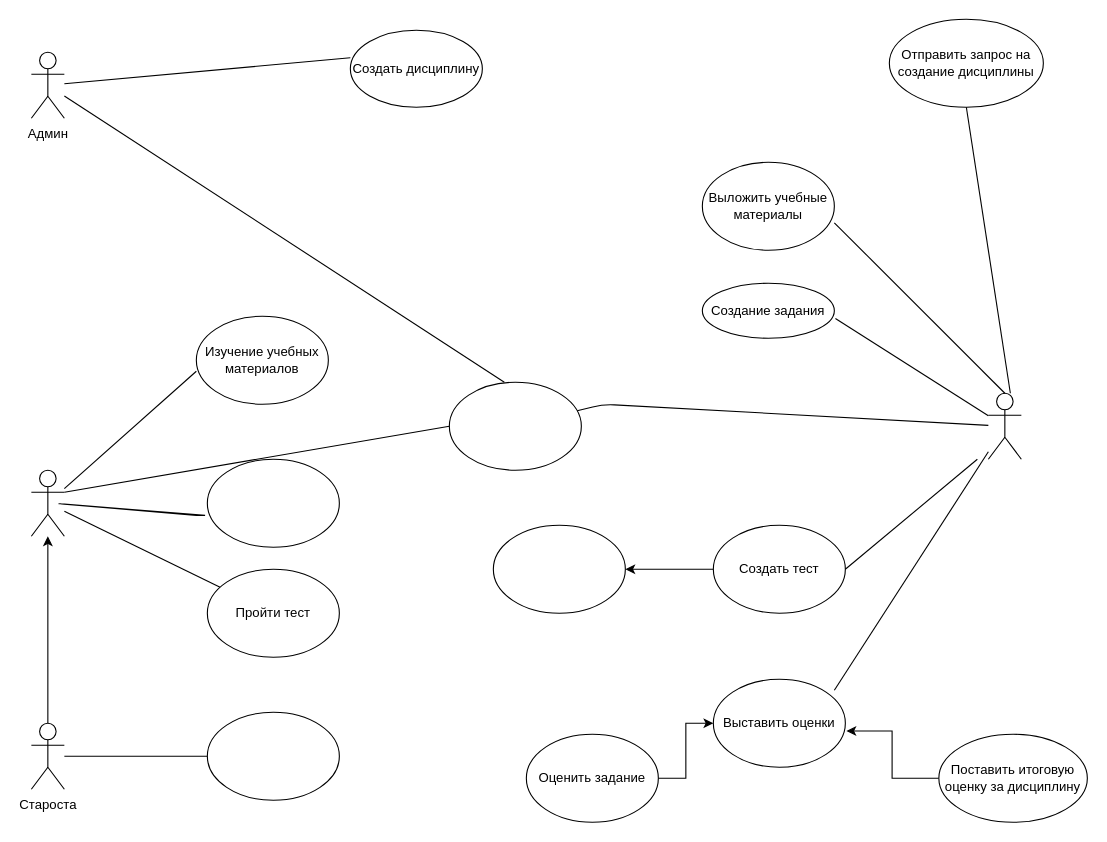
This 1107x842 diagram has some shape labels left out. The shapes that lost their labels are listed below. From the top down, each one's box as (x1, y1, x2, y2) in pixels, then its label:
(448, 381, 581, 470): Отправить сообщение
(987, 392, 1021, 459): Преподаватель
(30, 469, 64, 536): Студент
(206, 458, 339, 547): Выполнить задание
(492, 524, 625, 613): Добавить задание
(206, 711, 339, 800): Поставить посезвемрсть
